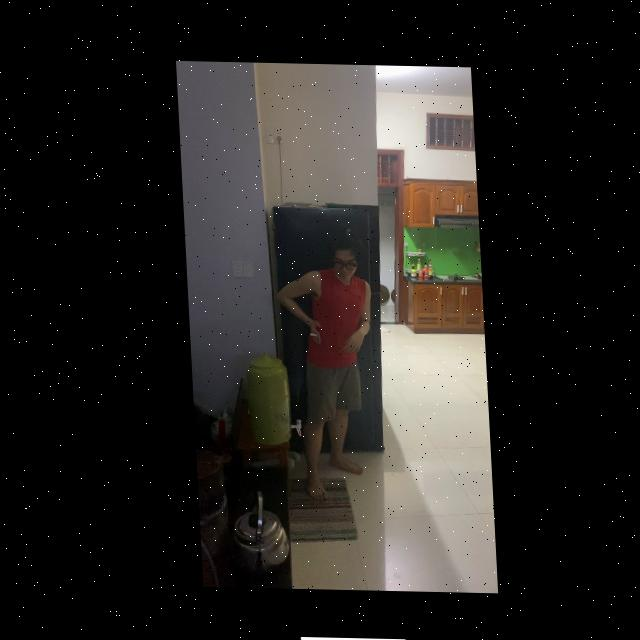cigarette: (305, 332, 313, 334)
